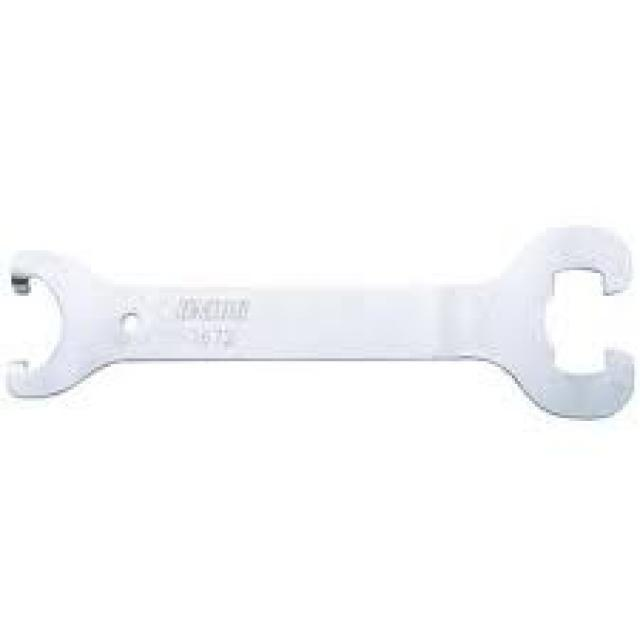wrench: (0, 217, 640, 429)
